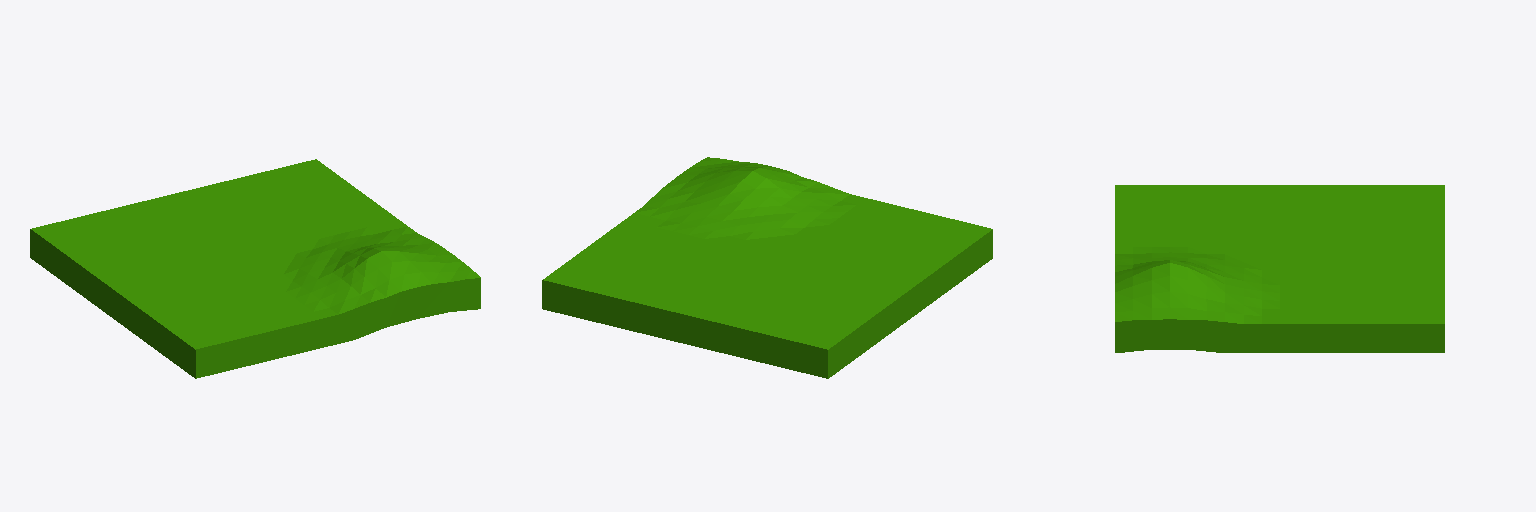
Rendered from Hill.obj.
The picture shows the model from 3 angles: view 1: azimuth 30°, elevation 25°; view 2: azimuth 150°, elevation 25°; view 3: azimuth 270°, elevation 25°; orthographic projection.
Parts seen in each view (by area): view 1: Grid; view 2: Grid; view 3: Grid.
Part boxes in pixels (x1,y1,x2,y2): Grid: (30,159,480,378); Grid: (542,157,992,378); Grid: (1115,185,1444,352).
Bounding box in the file's own units: 73.31 × 13.59 × 73.39.